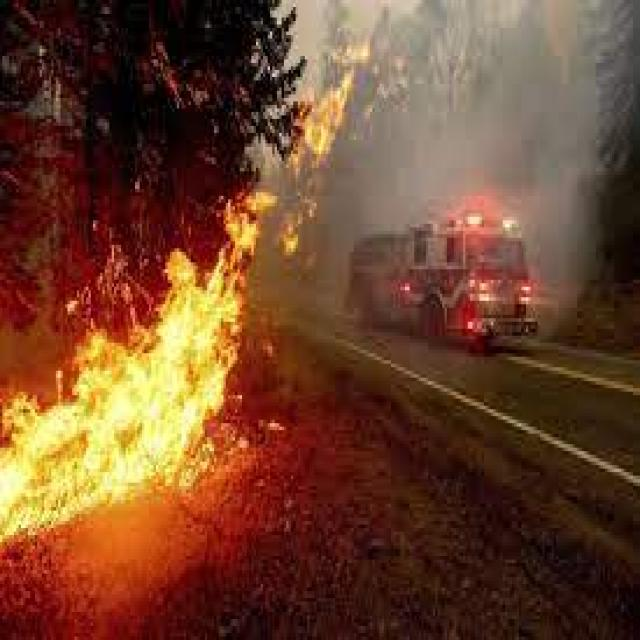smoke: (2, 196, 268, 545), (263, 46, 365, 262)
